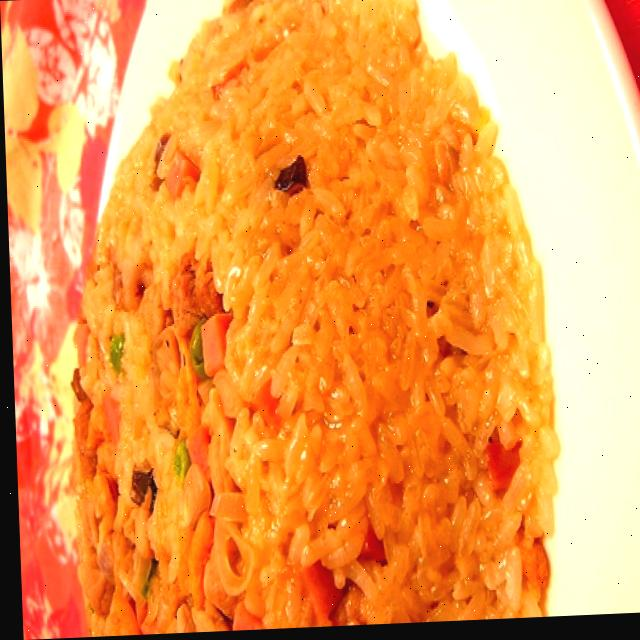米饭主食: (31, 16, 604, 639)
